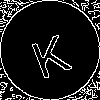K: (25, 25, 73, 80)
